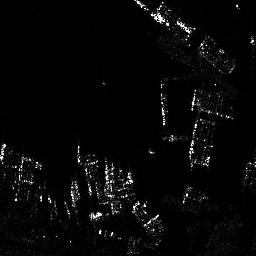ship: (158, 92, 168, 126)
